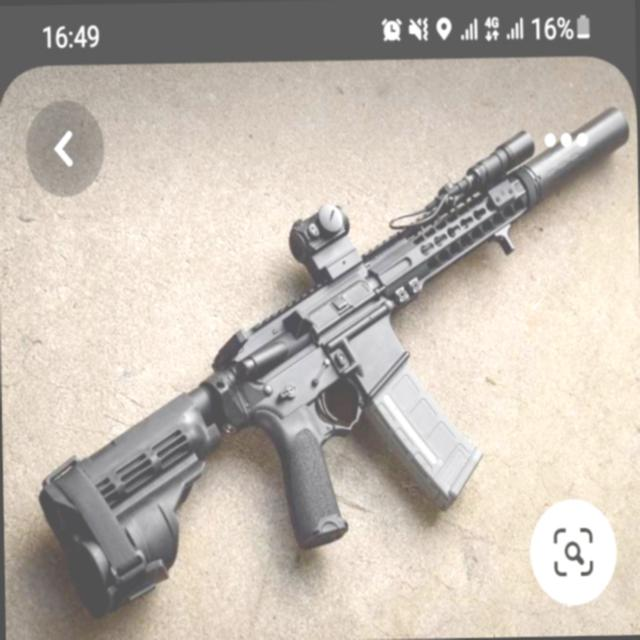m16: (16, 261, 499, 617)
